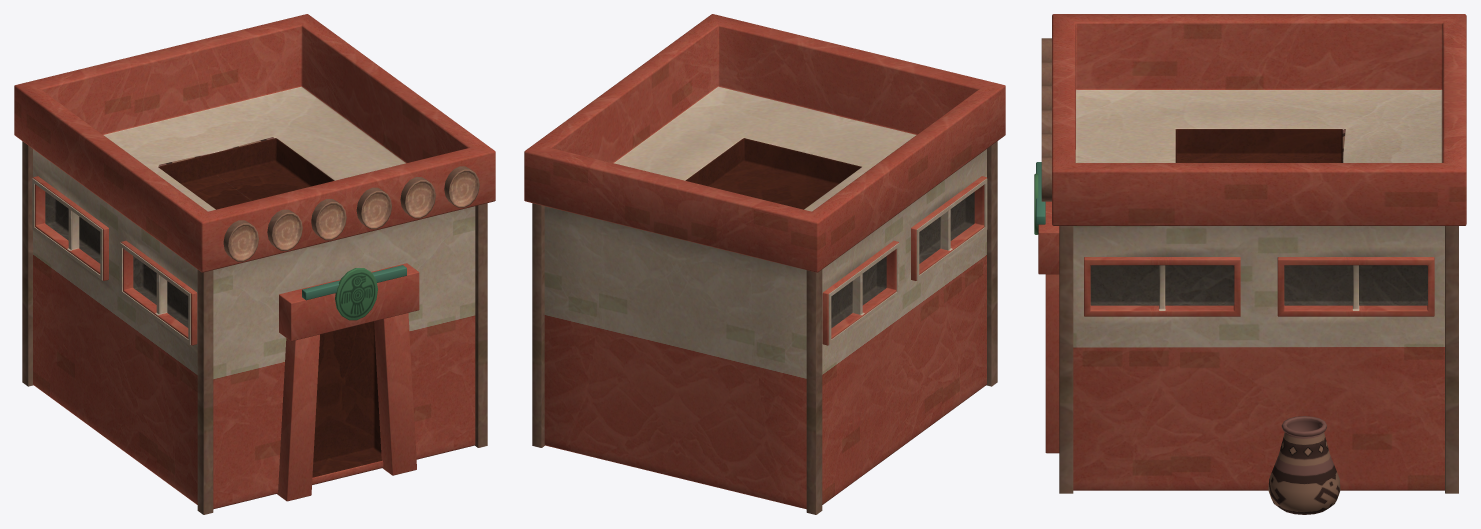
The model's file is CasaNuetral.fbx.
The picture shows the model from 3 angles, left to right: view 1: azimuth 30°, elevation 25°; view 2: azimuth 150°, elevation 25°; view 3: azimuth 270°, elevation 25°; orthographic projection. The views are drawn at different scales.
Parts seen in each view (by area): view 1: Casa; view 2: Casa; view 3: Casa.
Boxes of the visible parts, x1,y1,x2,y2 form: Casa: (14,14,495,514); Casa: (524,14,1005,514); Casa: (1034,14,1466,514).
Size of the model in its own units: 300 by 250 by 300.
1 material, 1 textured.
